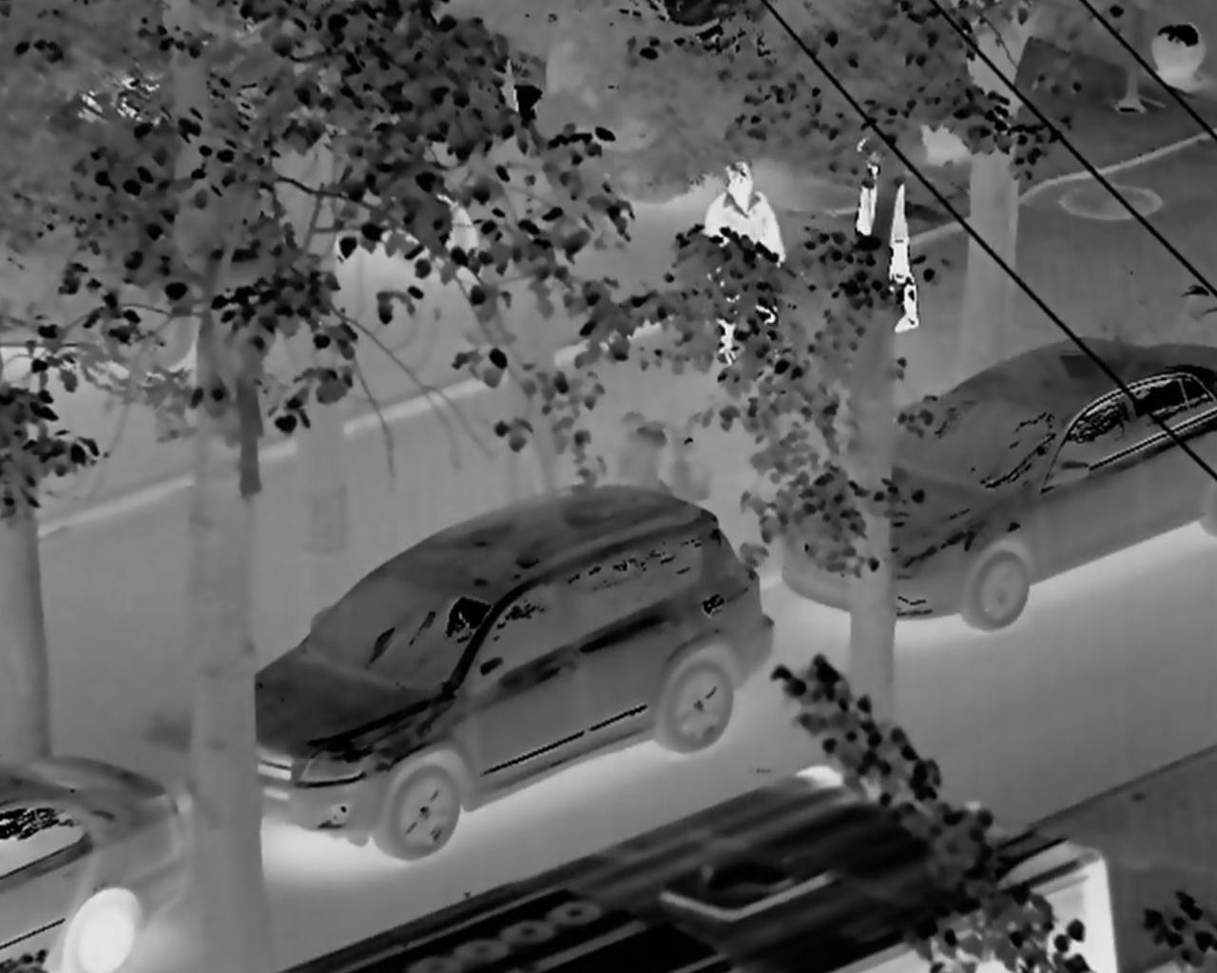person: (677, 136, 794, 384), (839, 129, 947, 348)
